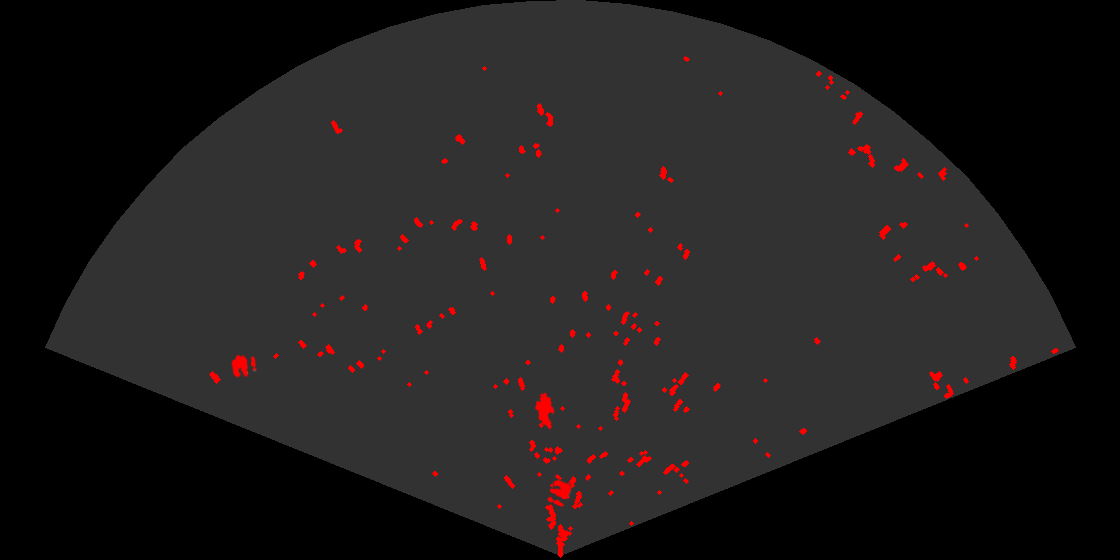AUV: (533, 391, 556, 431)
ball: (546, 478, 573, 508), (230, 353, 258, 380)
